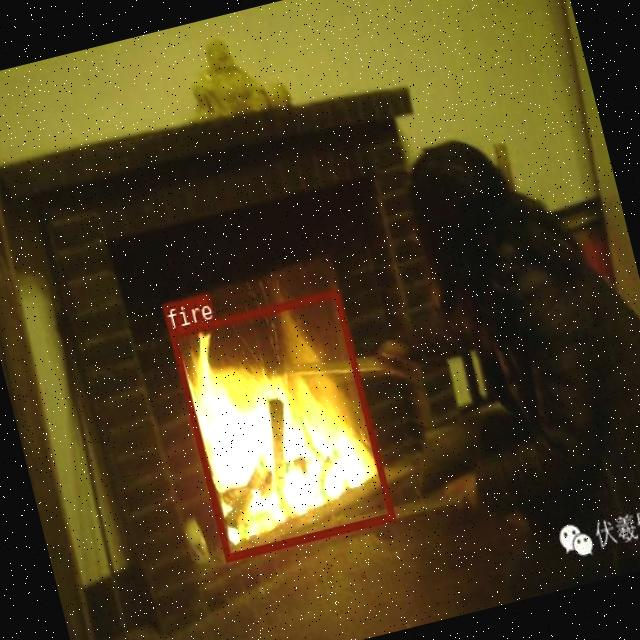fire: (168, 287, 394, 560)
